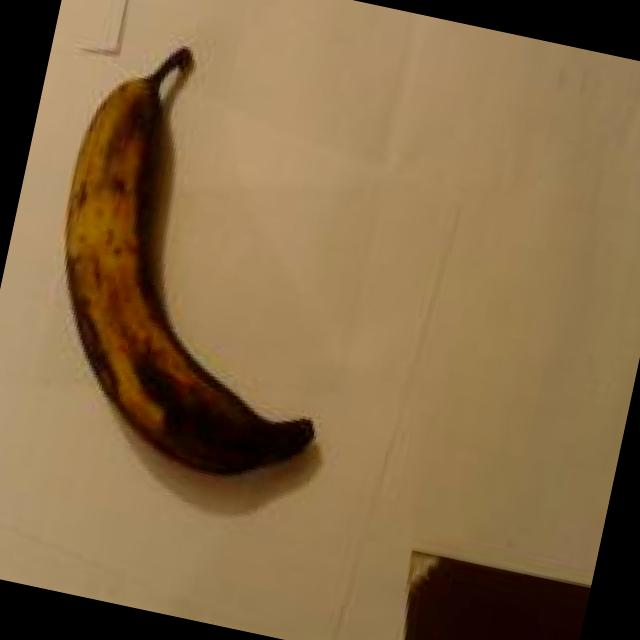Rotten_Banana: (0, 5, 253, 461), (0, 299, 391, 544)
